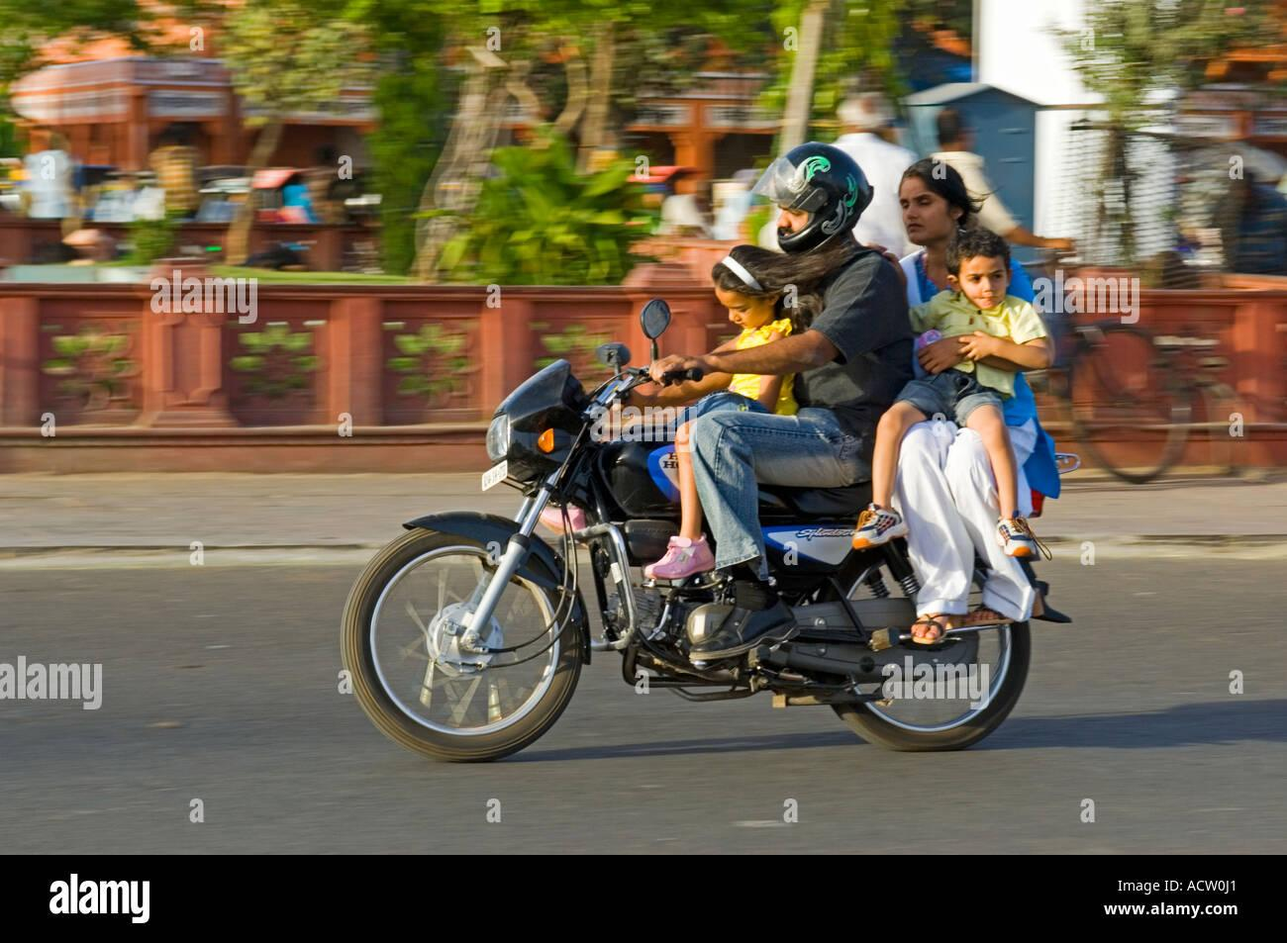helmet: (755, 137, 877, 265)
